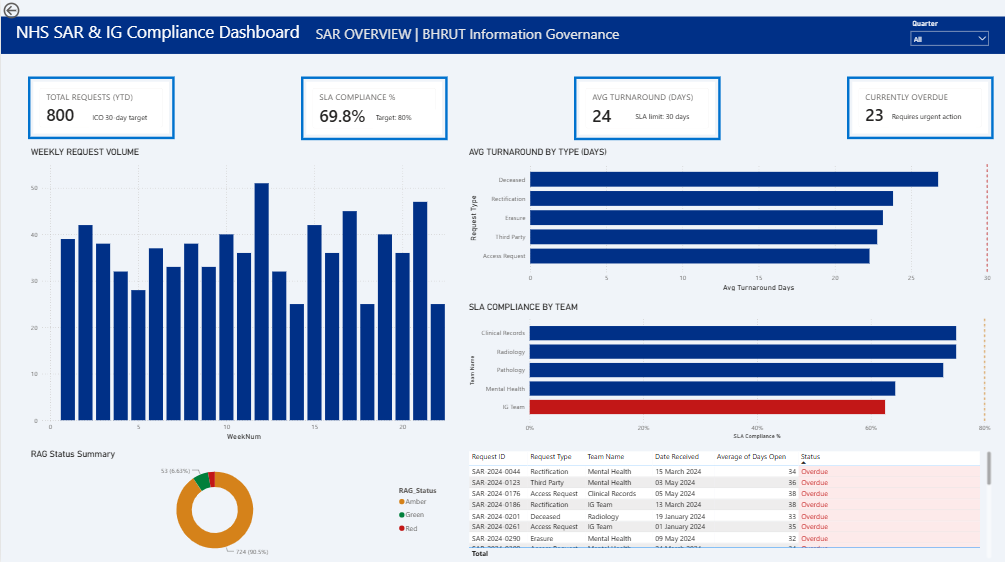

The dashboard page shown, as its layout file describes it:
{"tool":"powerbi","page":{"name":"SAR Overview","canvas":[1920,1080],"ordinal":0},"visuals":[{"type":"shape","box":[0,31.4,1920,71.4],"z":0},{"type":"cardVisual","fields":{"Data":["_Measures.Total Requests"]},"box":[50.1,146.8,279.2,119.3],"z":1000},{"type":"cardVisual","fields":{"Data":["_Measures.Avg Turnaround Days"]},"box":[1090.4,146.8,279,121],"z":2000},{"type":"cardVisual","fields":{"Data":["_Measures.Overdue Requests"]},"box":[1610.5,146.8,279.2,119.3],"z":3000},{"type":"clusteredBarChart","title":"AVG TURNAROUND BY TYPE (DAYS)","fields":{"Category":["dim_type.Request Type"],"Y":["_Measures.Avg Turnaround Days"]},"box":[885.2,279.2,1004.5,279.2],"z":4000},{"type":"clusteredBarChart","title":"SLA COMPLIANCE BY TEAM","fields":{"Category":["dim_team.Team Name"],"Y":["_Measures.SLA Compliance %"]},"box":[885.2,575,1004.5,267.2],"z":5000},{"type":"tableEx","fields":{"Values":["Fact_requests.Request ID","dim_type.Request Type","dim_team.Team Name","Fact_requests.Date Received","Fact_requests.Days Open","Fact_requests.Status"]},"box":[885.7,854.3,1005.7,214.3],"z":6000},{"type":"actionButton","box":[0,0,100,40],"z":7000},{"type":"clusteredColumnChart","title":"WEEKLY REQUEST VOLUME","fields":{"Category":["DateTable.WeekNum"],"Y":["_Measures.Total Requests1"]},"box":[50.1,279.2,799.3,563.1],"z":8000},{"type":"slicer","fields":{"Values":["DateTable.Quarter"]},"box":[1722.9,31.4,168.6,77.1],"z":9000},{"type":"cardVisual","fields":{"Data":["_Measures.SLA Compliance %"]},"box":[570.3,146.8,279,121],"z":10000},{"type":"donutChart","title":"RAG Status Summary","fields":{"Category":["Fact_requests.RAG_Status"],"Y":["_Measures.Total Requests1"]},"box":[51.4,854.3,800,214.3],"z":11000},{"type":"textbox","box":[168.6,208.6,134.3,40],"z":12000},{"type":"textbox","box":[708.6,208.6,131.4,40],"z":13000},{"type":"textbox","box":[1202.3,206.5,133.6,38.9],"z":14000},{"type":"textbox","box":[1690.5,206.5,165.2,38.9],"z":15000},{"type":"textbox","box":[22.9,31.4,580,68.6],"z":16000},{"type":"textbox","box":[594.3,40,674.3,68.6],"z":16001}]}

Visuals, with their boxes in screenshot pixels (x1, y1, x2, y2), scaled from the page's 1920x1080 canvas onto the 1005x562 screenshot:
shape: x1=0 y1=16 x2=1004 y2=53
cardVisual - _Measures.Total Requests: x1=26 y1=76 x2=172 y2=138
cardVisual - _Measures.Avg Turnaround Days: x1=571 y1=76 x2=717 y2=139
cardVisual - _Measures.Overdue Requests: x1=843 y1=76 x2=989 y2=138
"AVG TURNAROUND BY TYPE (DAYS)" clusteredBarChart: x1=463 y1=145 x2=989 y2=291
"SLA COMPLIANCE BY TEAM" clusteredBarChart: x1=463 y1=299 x2=989 y2=438
tableEx - Fact_requests.Request ID x dim_type.Request Type: x1=464 y1=445 x2=990 y2=556
actionButton: x1=0 y1=0 x2=52 y2=21
"WEEKLY REQUEST VOLUME" clusteredColumnChart: x1=26 y1=145 x2=445 y2=438
slicer - DateTable.Quarter: x1=902 y1=16 x2=990 y2=56
cardVisual - _Measures.SLA Compliance %: x1=299 y1=76 x2=445 y2=139
"RAG Status Summary" donutChart: x1=27 y1=445 x2=446 y2=556
textbox: x1=88 y1=109 x2=159 y2=129
textbox: x1=371 y1=109 x2=440 y2=129
textbox: x1=629 y1=107 x2=699 y2=128
textbox: x1=885 y1=107 x2=971 y2=128
textbox: x1=12 y1=16 x2=316 y2=52
textbox: x1=311 y1=21 x2=664 y2=57
